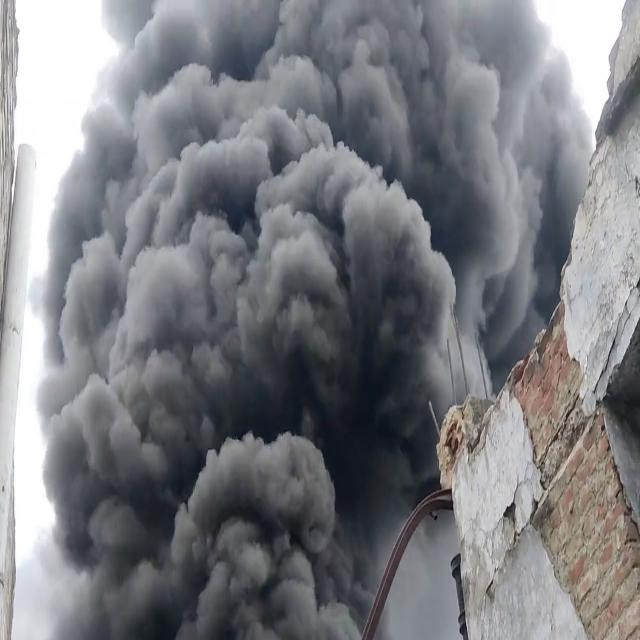Smoke: (43, 0, 590, 640)
